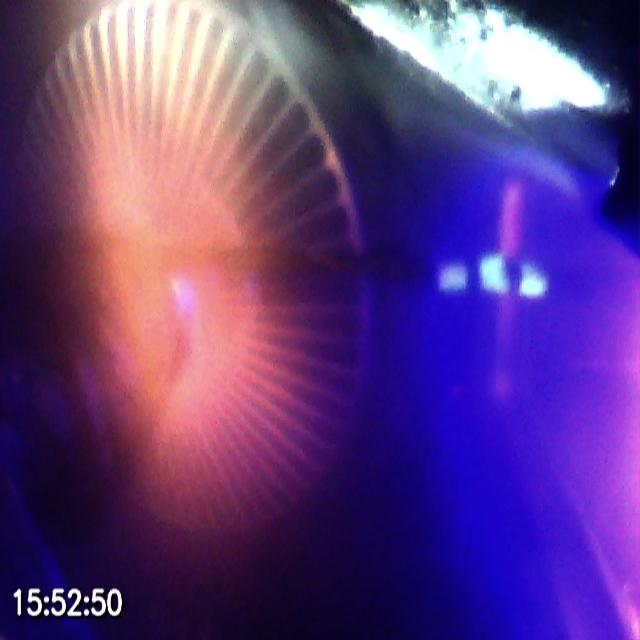white-dots: (436, 250, 552, 301)
